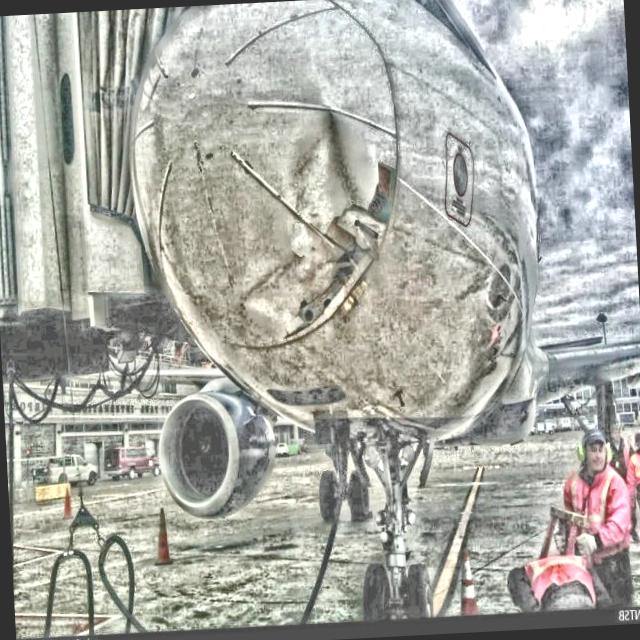dent: (279, 103, 368, 225)
